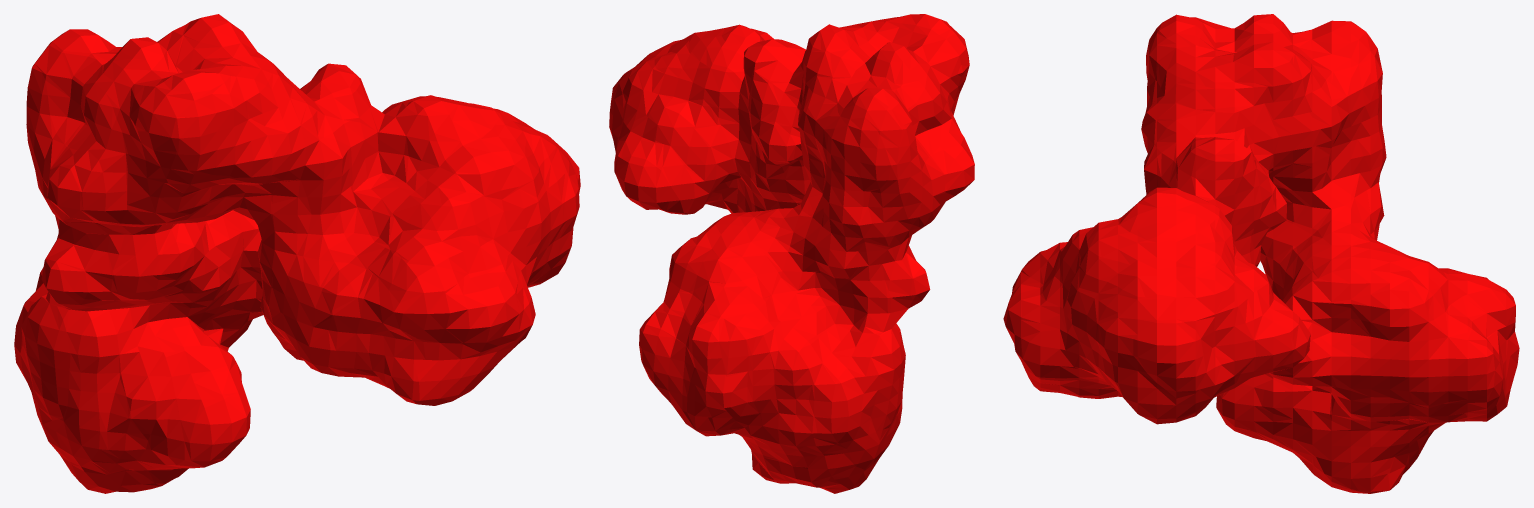
The model's file is pyrI_coarse.dae.
3 views of the same model, side by side, from view 1: azimuth 30°, elevation 25°; view 2: azimuth 150°, elevation 25°; view 3: azimuth 270°, elevation 25° (orthographic). The views are drawn at different scales.
Parts seen in each view (by area): view 1: pyrI; view 2: pyrI; view 3: pyrI.
Part boxes in pixels (left/top/right/bottom): pyrI: left=14, top=14, right=580, bottom=493; pyrI: left=609, top=14, right=974, bottom=493; pyrI: left=1003, top=14, right=1519, bottom=493.
Bounding box in the file's own units: 97.97 × 98.12 × 102.
